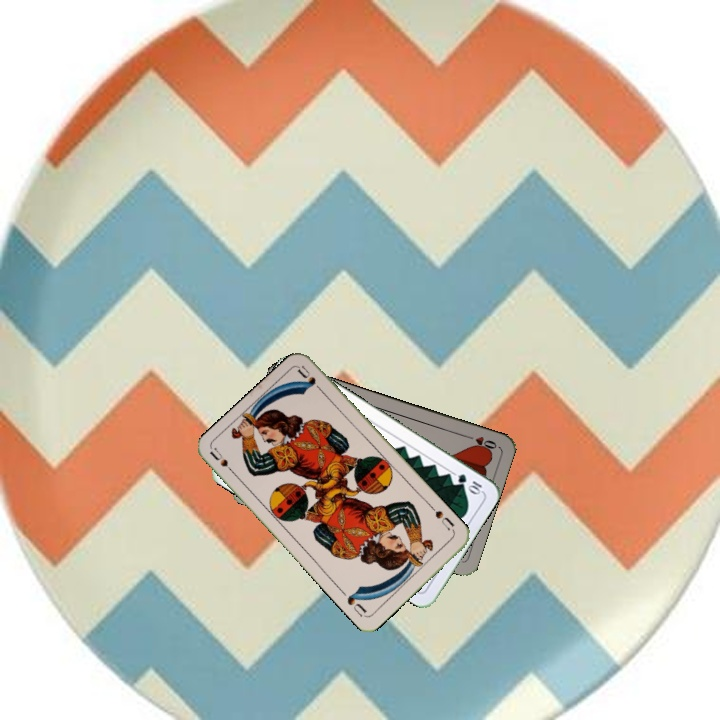G10: (454, 469, 485, 497)
HO: (460, 431, 499, 453)
SU: (206, 445, 240, 479), (426, 502, 456, 533)
